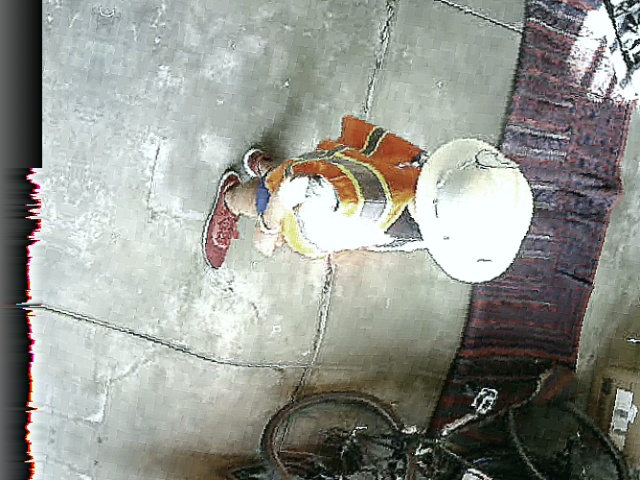two: (472, 148, 523, 171)
